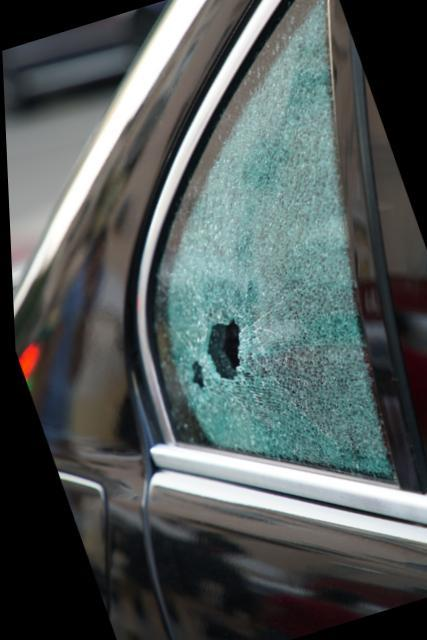glass shatter: (144, 0, 391, 484)
